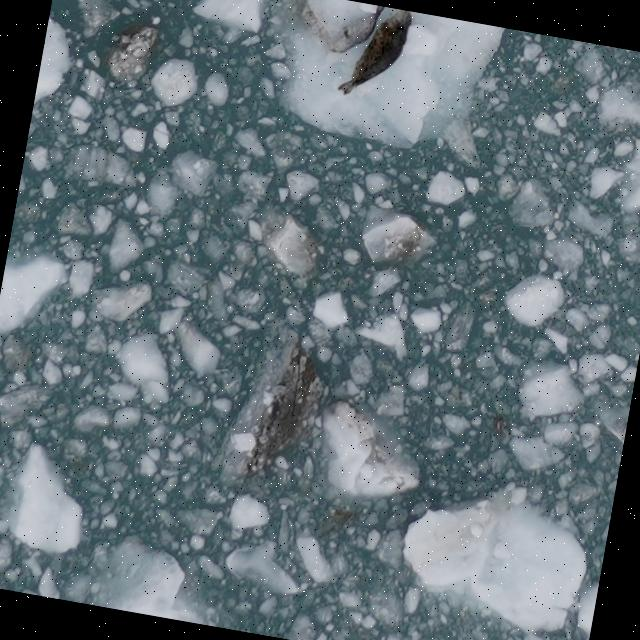seal: (334, 1, 417, 106), (322, 0, 390, 64)
